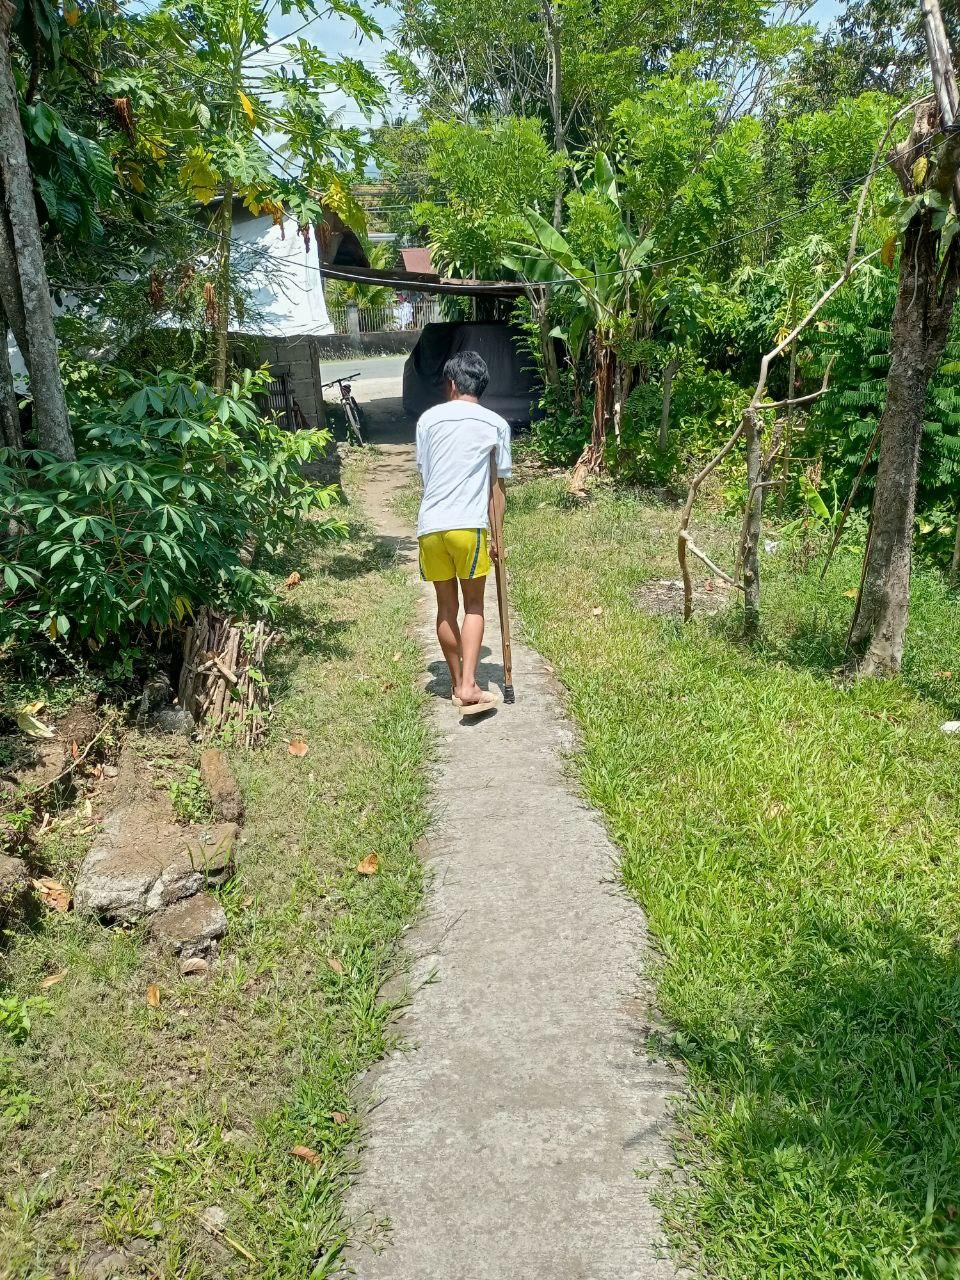crutches: (410, 346, 523, 731)
